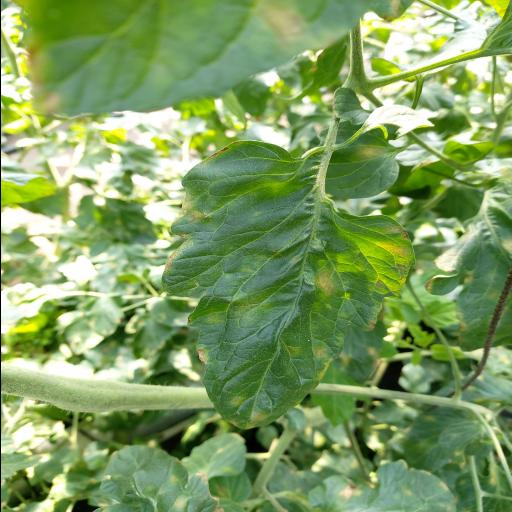disease_tomato: (162, 138, 418, 430)
